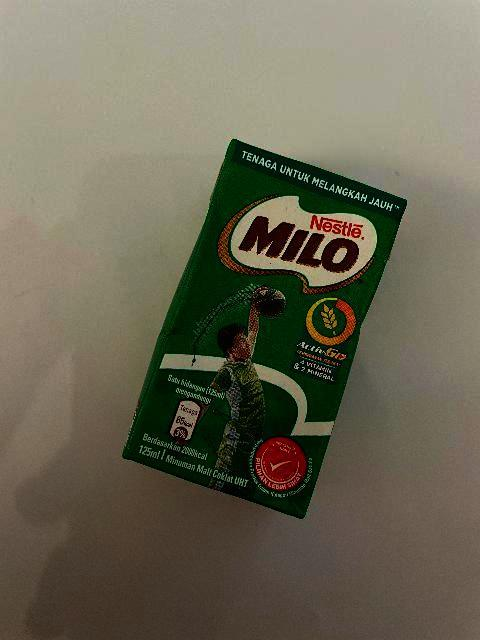drinkpack: (121, 135, 410, 523)
